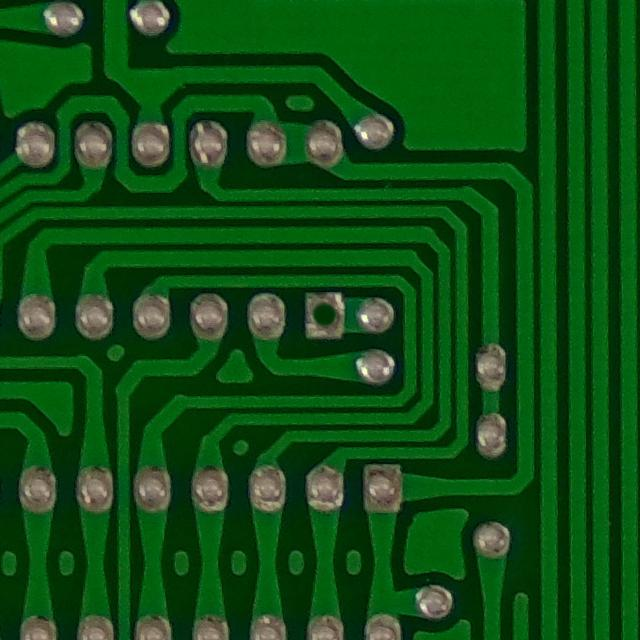missing_hole: (285, 286, 355, 354)
